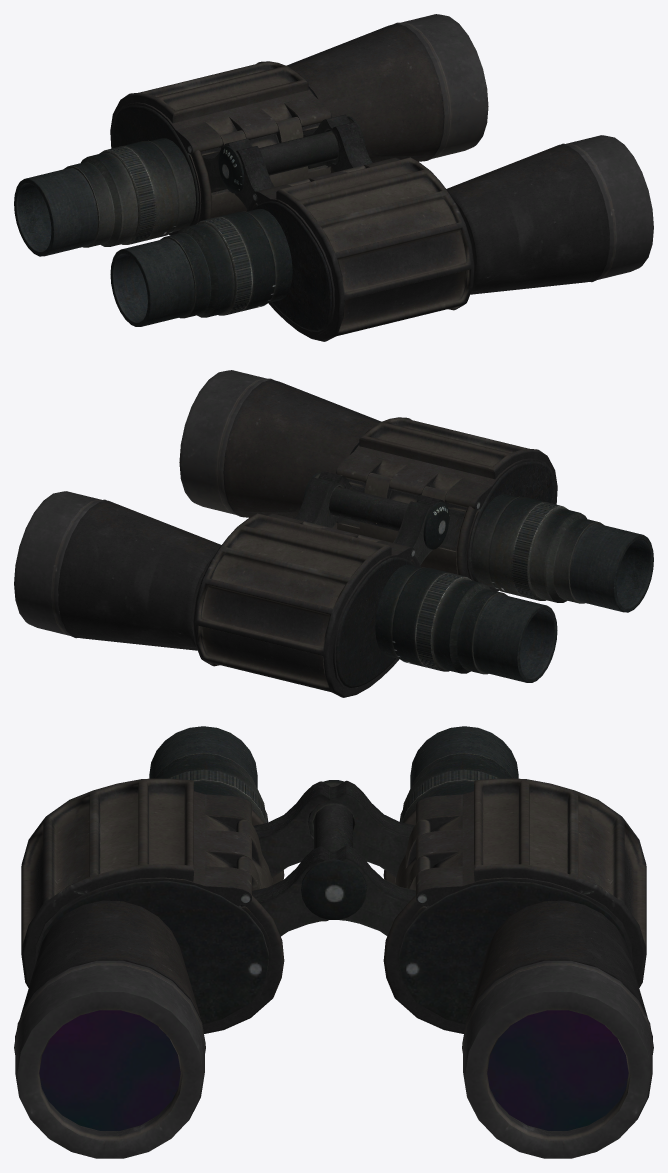
File: Binoculars.fbx
3 views of the same model, one above another, from view 1: azimuth 30°, elevation 25°; view 2: azimuth 150°, elevation 25°; view 3: azimuth 270°, elevation 25° (orthographic). The views are drawn at different scales.
Parts seen in each view (by area): view 1: Binoculars; view 2: Binoculars; view 3: Binoculars.
Boxes of the visible parts, x1=… form: Binoculars: x1=14, y1=14, x2=653, y2=341; Binoculars: x1=14, y1=370, x2=653, y2=697; Binoculars: x1=14, y1=726, x2=653, y2=1158.
Size of the model in its own units: 51.27 by 14.32 by 46.
1 material, 1 textured.
